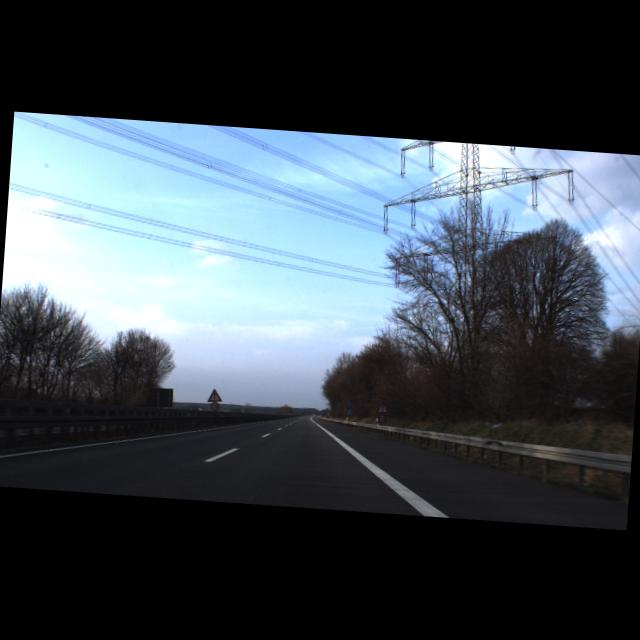danger: (374, 398, 390, 412), (206, 388, 222, 402)
prohibitory: (376, 412, 386, 422), (209, 402, 219, 411)
